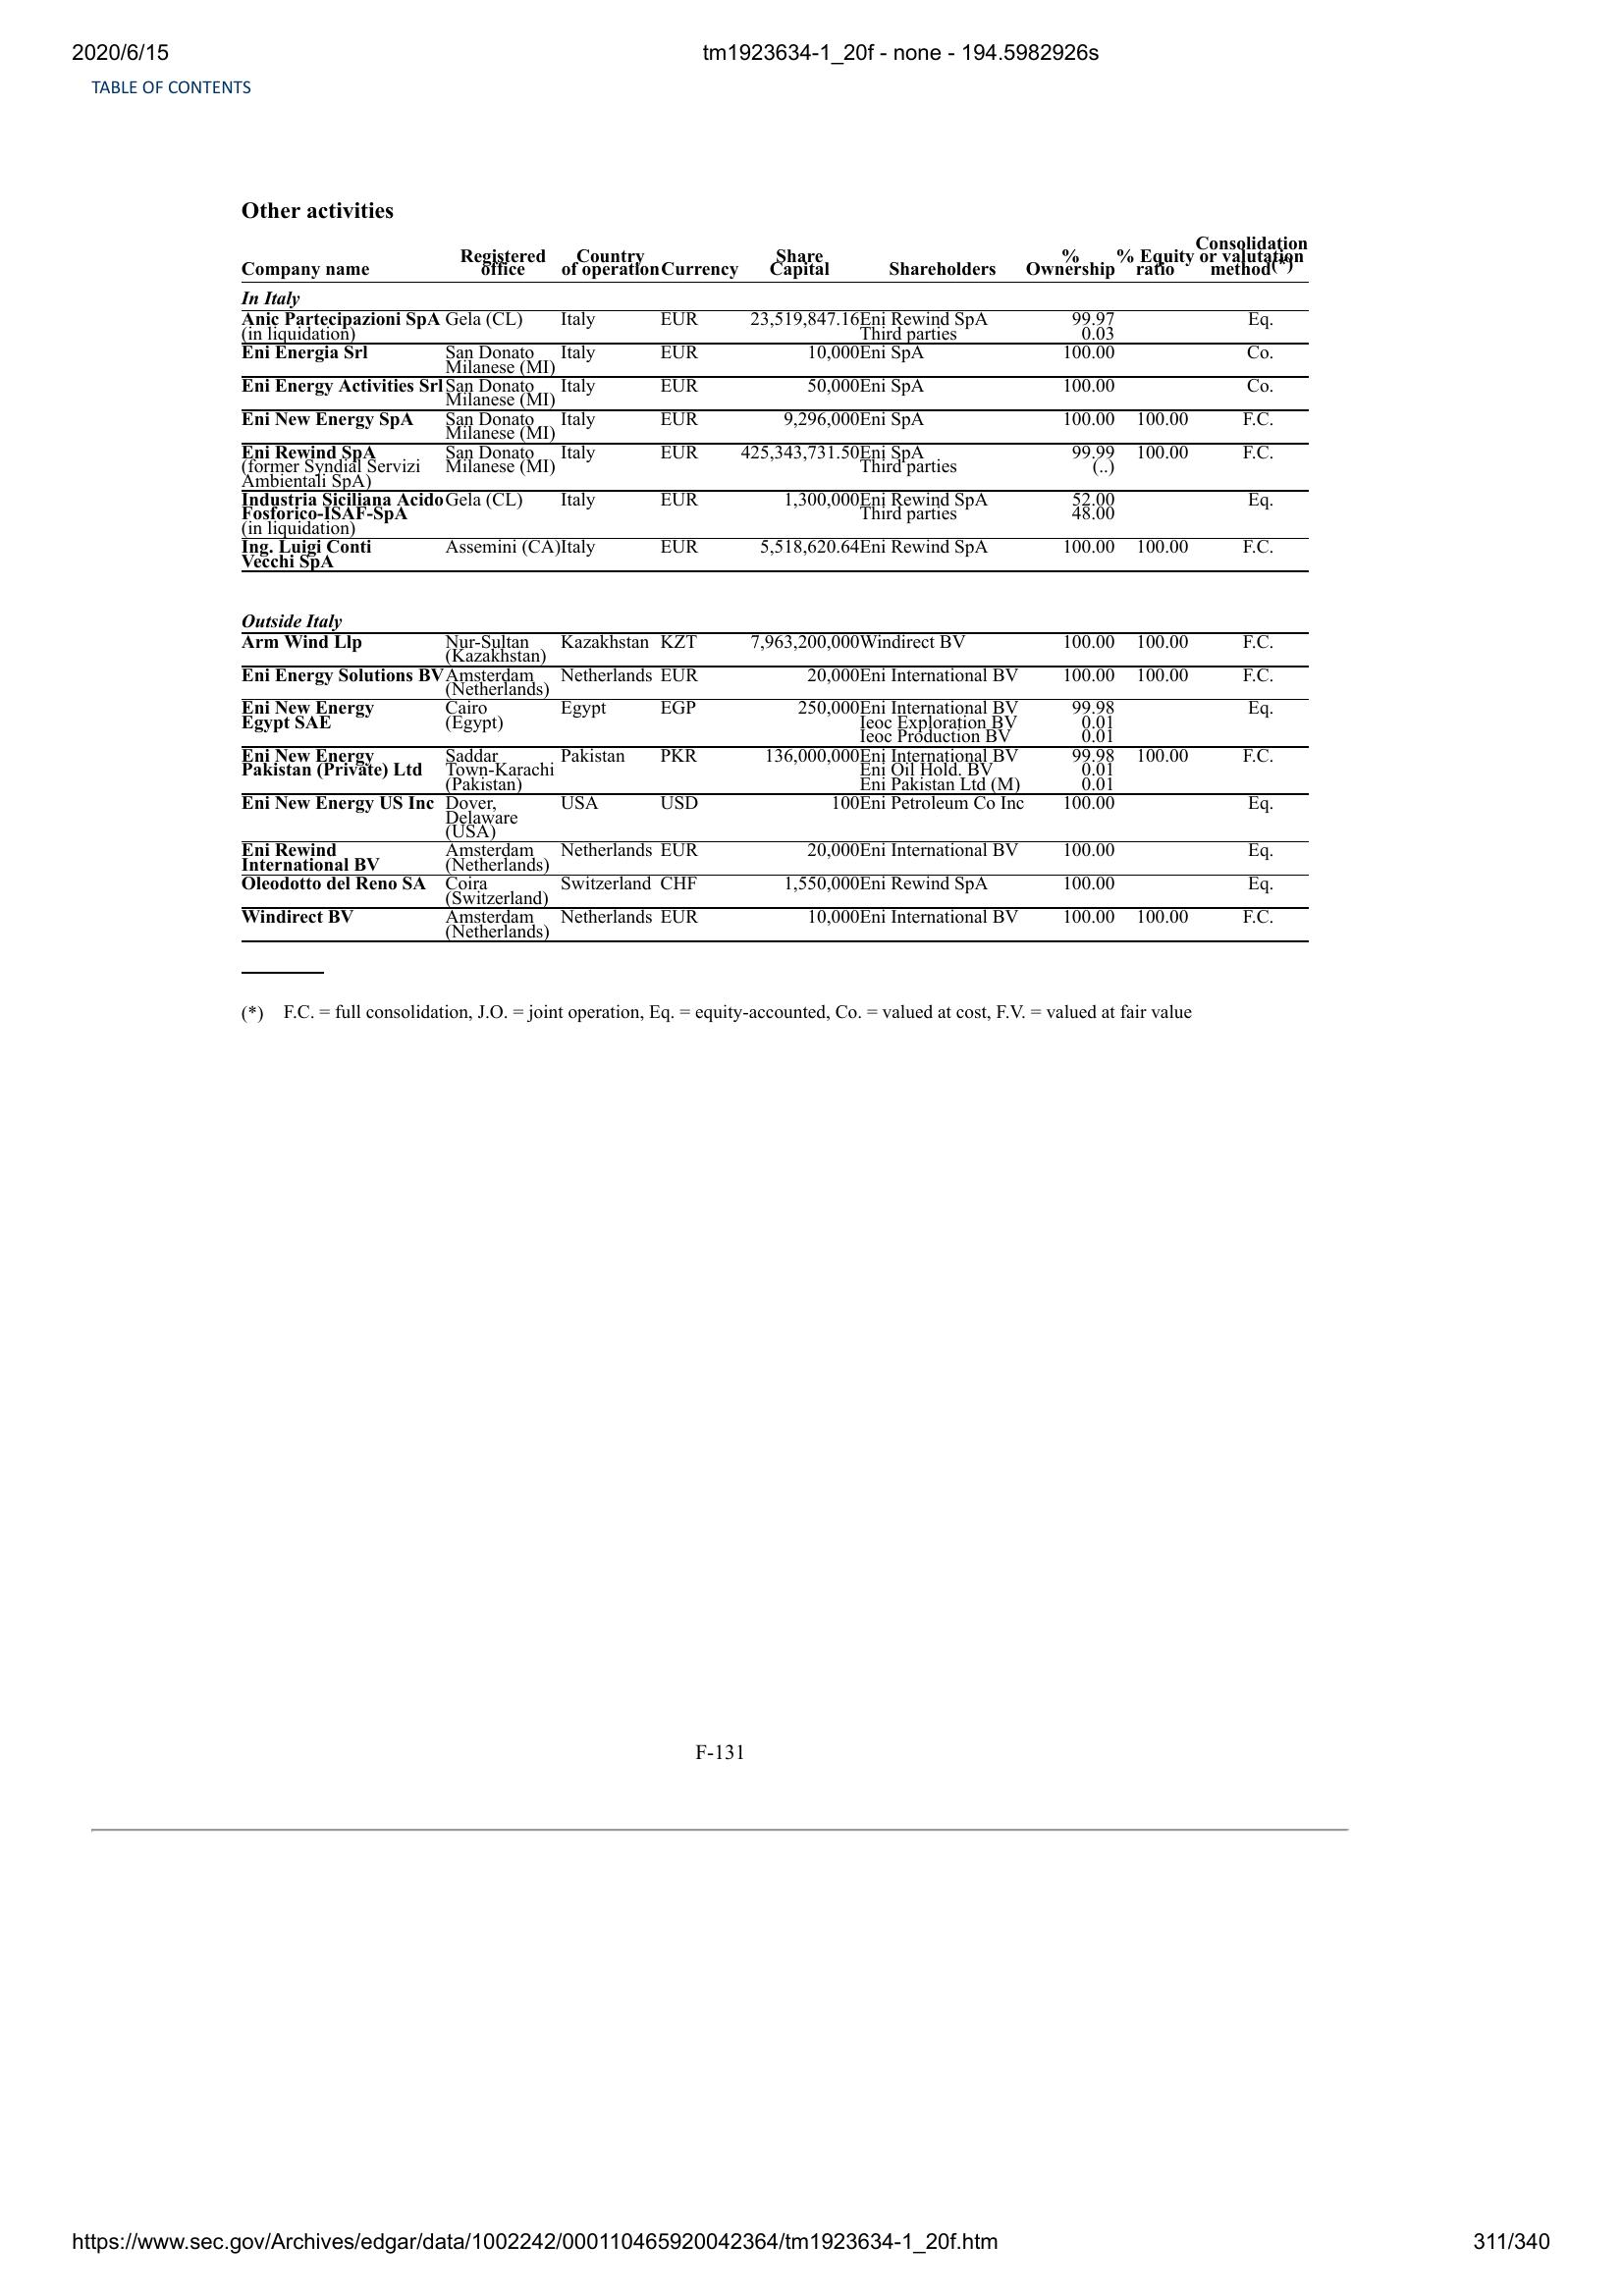table: (227, 228, 1323, 957)
